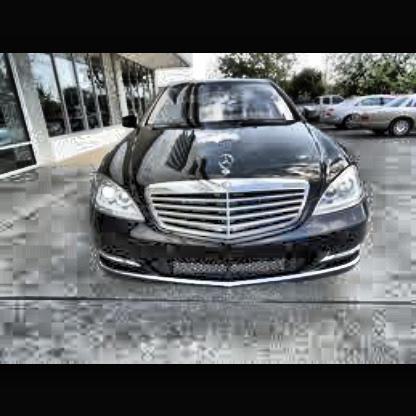Mercedes-Benz S-Class Sedan 2012: (88, 84, 375, 289)
